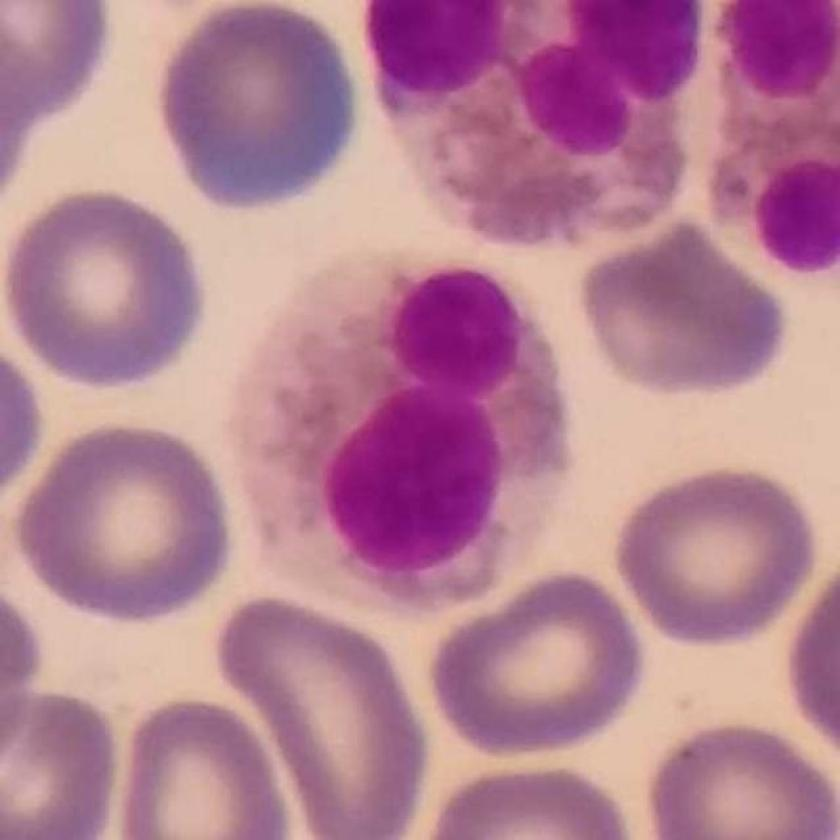eosinophil: (232, 251, 572, 625), (374, 1, 699, 241), (691, 1, 840, 282)
